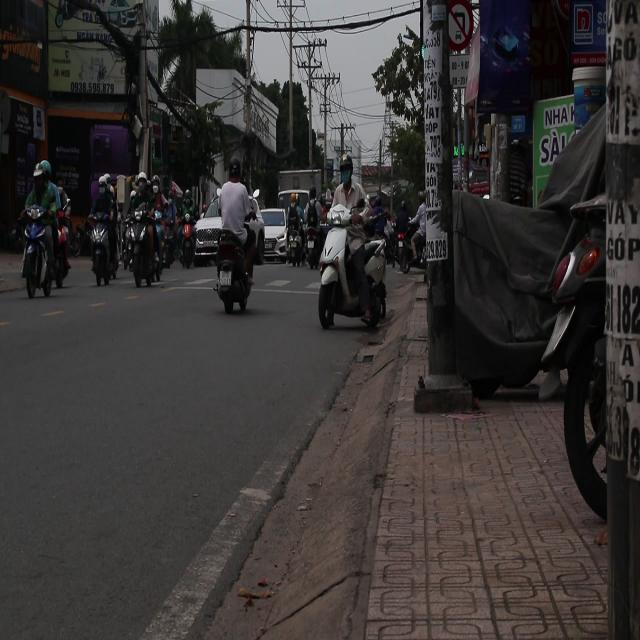car: (258, 206, 288, 264)
motorbike: (317, 211, 390, 331), (18, 209, 66, 298), (123, 199, 165, 286), (212, 228, 254, 312), (86, 213, 121, 287)
truck: (278, 170, 320, 220)
